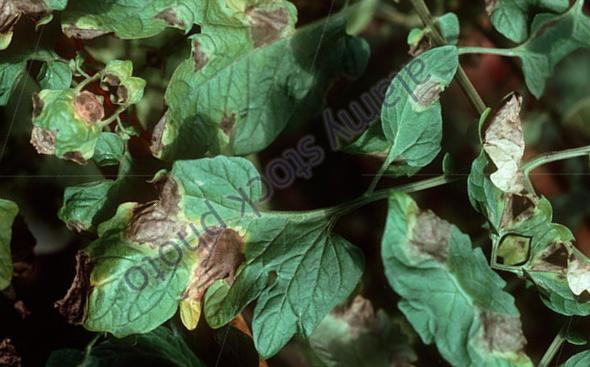Tomato leaf late blight: (38, 94, 387, 367), (105, 0, 388, 210), (424, 84, 590, 262), (338, 20, 507, 185), (37, 71, 174, 195)
